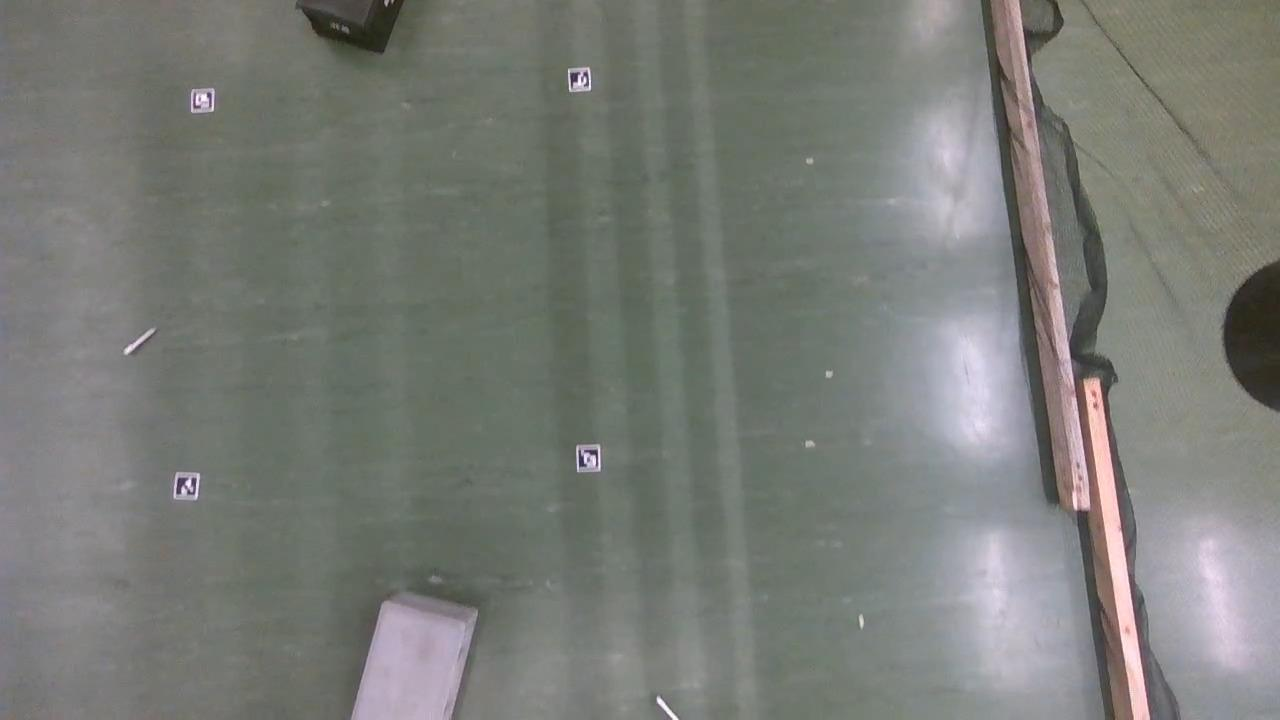probes: (122, 326, 156, 355), (655, 695, 682, 719)
rako: (351, 592, 477, 719), (294, 0, 407, 55)
